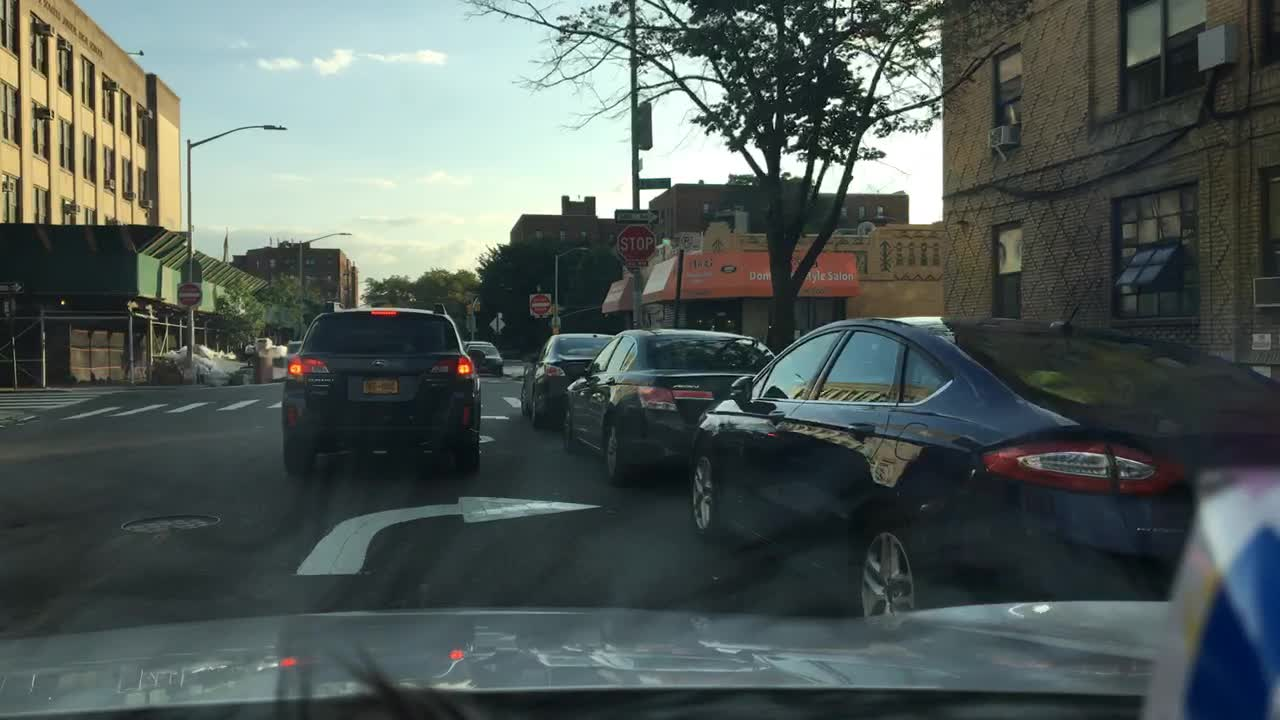car: (689, 276, 1279, 618), (280, 305, 479, 480), (559, 332, 776, 481), (517, 334, 608, 430), (461, 339, 503, 376)
traffic sign: (616, 228, 661, 266), (174, 281, 206, 306), (612, 210, 661, 226), (174, 256, 204, 279), (524, 293, 553, 316), (637, 175, 669, 191), (490, 312, 505, 331)
